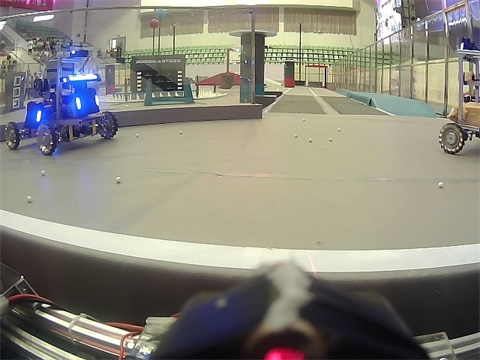chariot: (13, 53, 125, 167)
